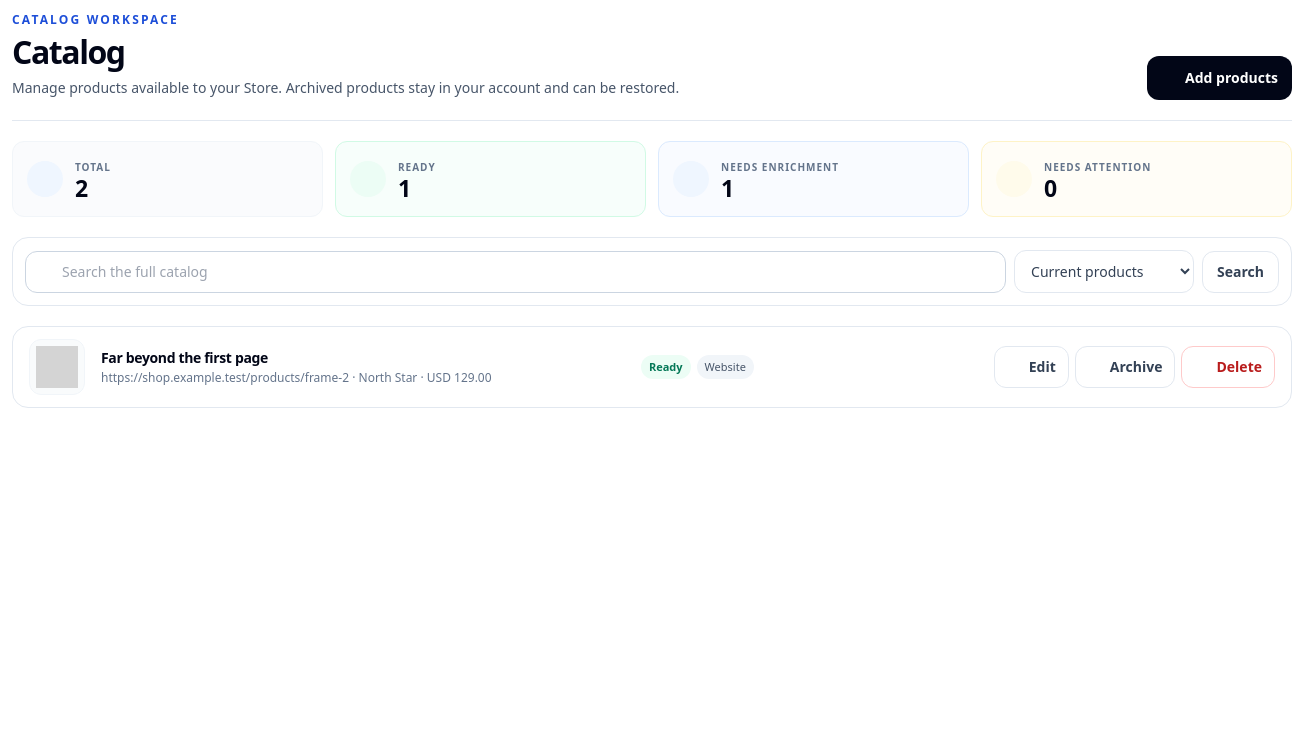
Test: MerchantCatalogWorkspace › retains the product and displays a clear error when deletion is blocked
Click the button "Delete" at (1228, 367), box [1182,346,1275,388]
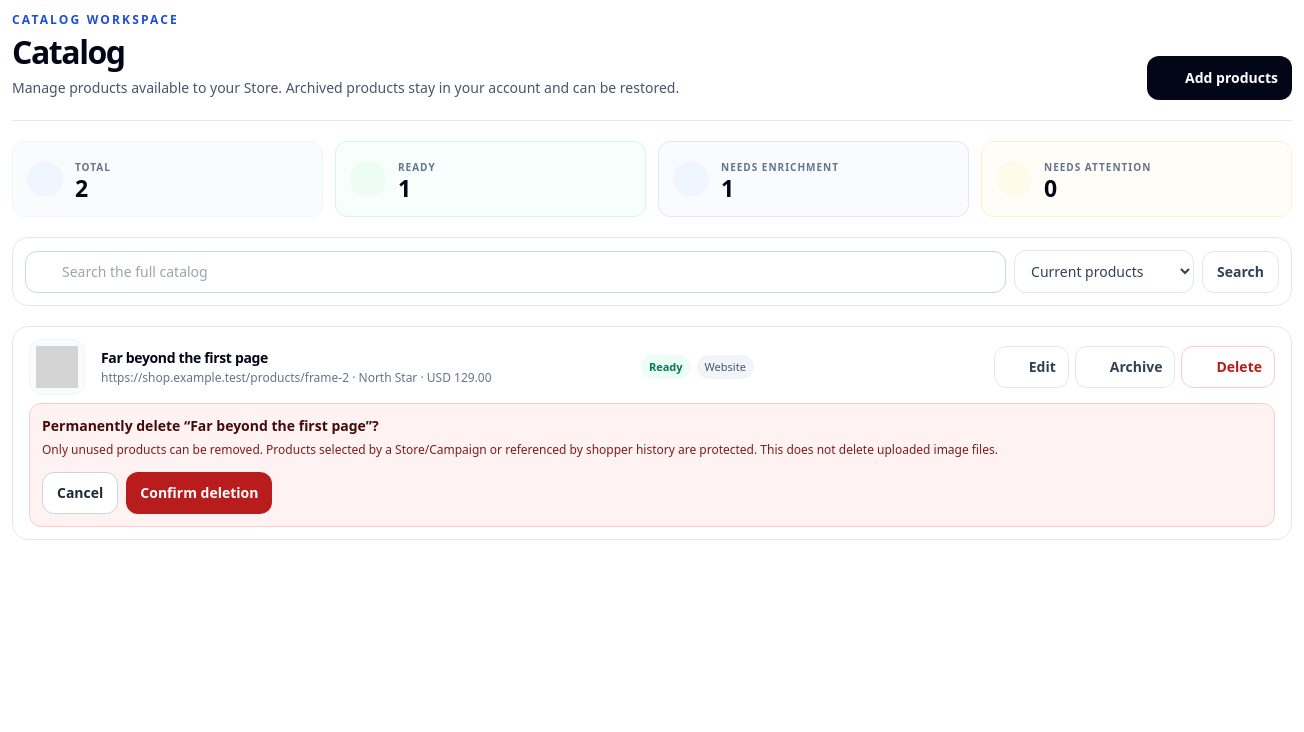
Click the button "Confirm deletion" at (199, 493), box [126,472,272,514]
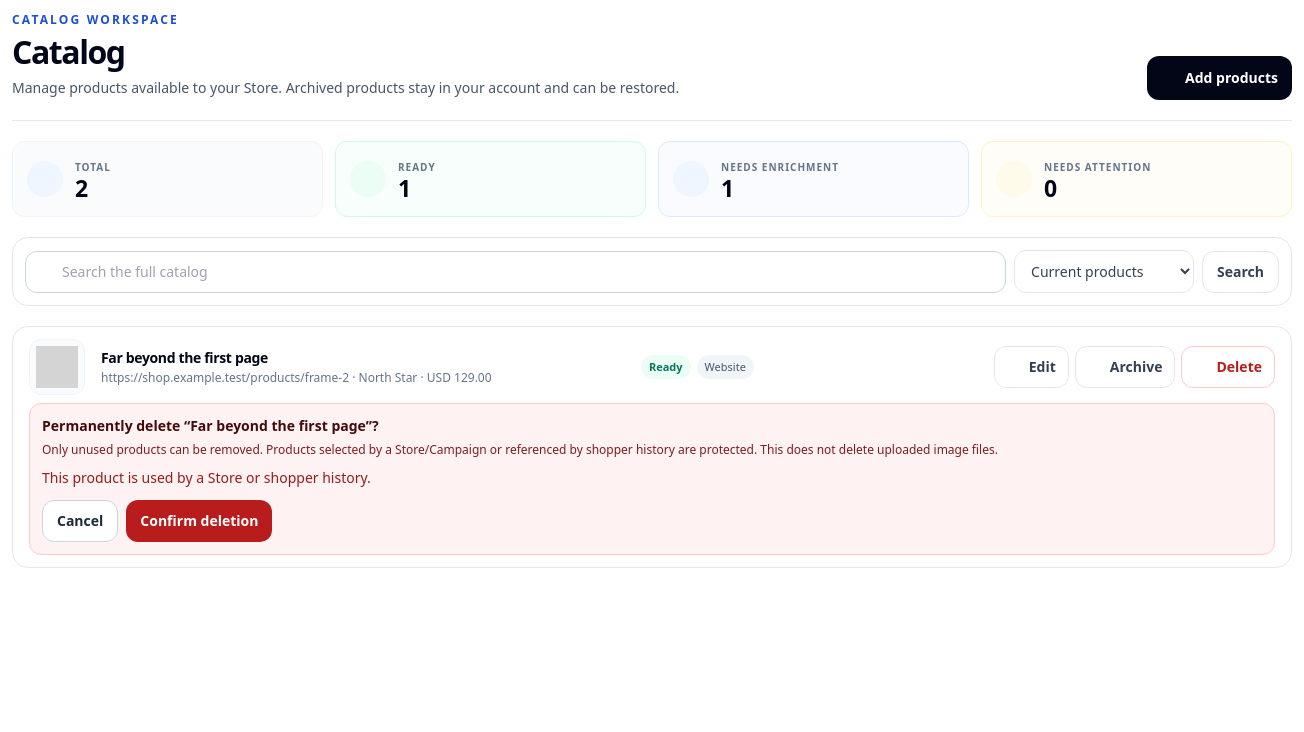
Check: the heading "Far beyond the first page" is shown, box [101,348,268,367]
Check: the message reads "This product is used by a Store or shopper history.", box [42,468,371,487]
